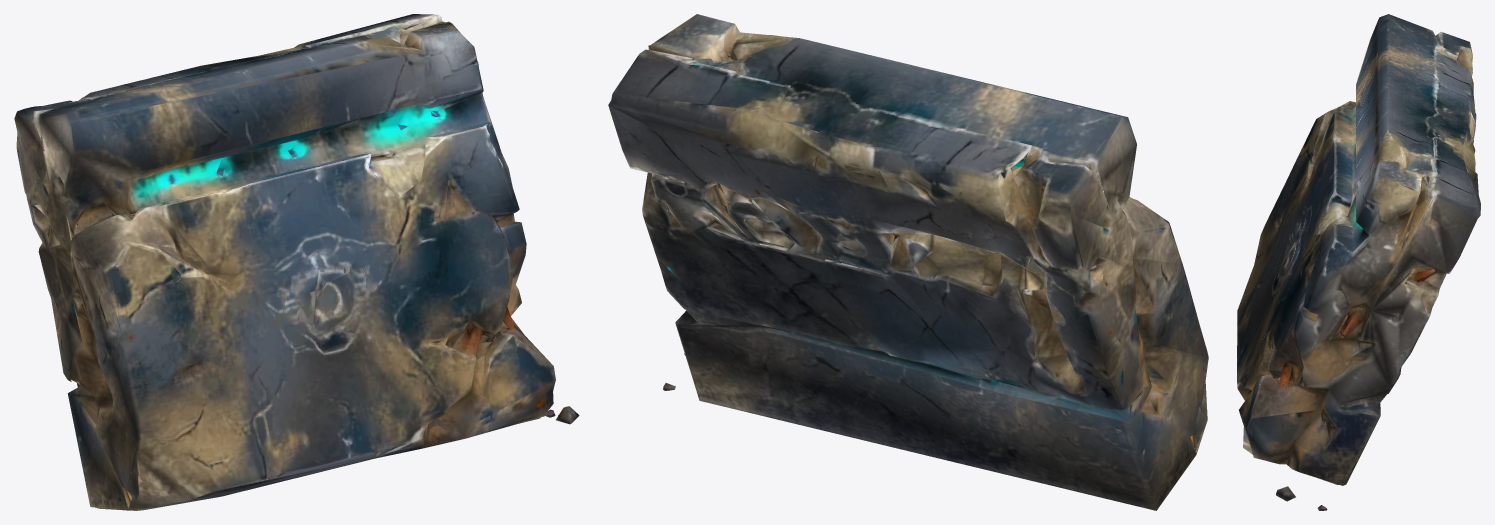
The model's file is model-1790538962380-panel.glb.
The picture shows the model from 3 angles, left to right: view 1: azimuth 30°, elevation 25°; view 2: azimuth 150°, elevation 25°; view 3: azimuth 270°, elevation 25°; orthographic projection. The views are drawn at different scales.
Visible parts, largest first — view 1: world; view 2: world; view 3: world.
Boxes of the visible parts, bbox=[...] form: world: bbox=[14, 14, 579, 510]; world: bbox=[608, 14, 1208, 510]; world: bbox=[1237, 14, 1480, 510].
Bounding box in the file's own units: 0.9695 × 0.7741 × 0.541.
1 material, 1 textured.
